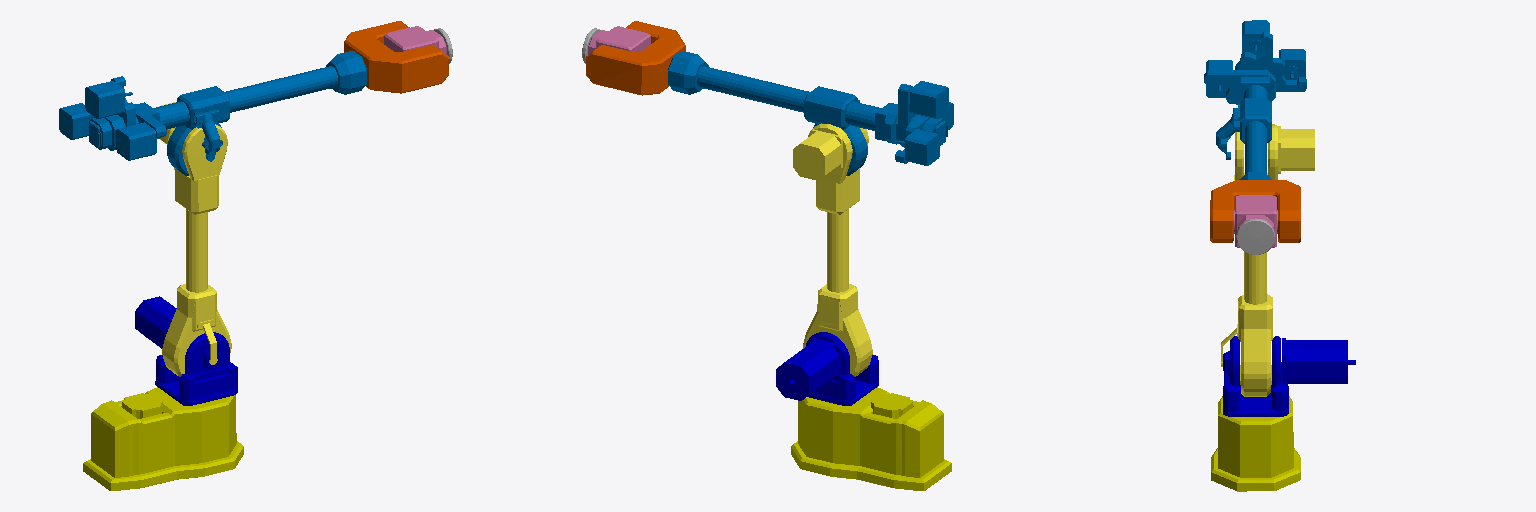
URDF robot description (sixi):
<?xml version="1.0" encoding="UTF-8"?>

<robot name="sixi"
    xmlns:xacro="https://www.ros.org/wiki/xacro">

    <!--
        DESCRIPTION
        // shoulder
        links.get(0).setD(18.8452+0.9);
        links.get(0).setTheta(0);
        links.get(0).setR(0);
        links.get(0).setAlpha(-90);
        links.get(0).setRange(-120,120);
        links.get(0).maxTorque.set(14.0); //Nm

        // bicep
        links.get(1).setD(0);
        links.get(1).setTheta(-90);
        links.get(1).setR(35.796);
        links.get(1).setAlpha(0);
        links.get(1).setRange(-170,0);
        links.get(1).maxTorque.set(40.0); //Nm

        // foreArm
        links.get(2).setD(0);
        links.get(2).setTheta(0);
        links.get(2).setR(6.4259);
        links.get(2).setAlpha(-90);
        links.get(2).setRange(-83.369, 86);
        links.get(2).maxTorque.set(14.0); //Nm

        // utningFork
        links.get(3).setLetter("U");
        links.get(3).setD(29.355+9.35);
        links.get(3).setTheta(0);
        links.get(3).setR(0);
        links.get(3).setAlpha(90);
        links.get(3).setRange(-175, 175);
        links.get(3).maxTorque.set(3.0); //Nm

        // picassoBox
        links.get(4).setLetter("V");
        links.get(4).setD(0);
        links.get(4).setTheta(0);
        links.get(4).setR(0);
        links.get(4).setAlpha(-90);
        links.get(4).setRange(-120, 120);
        links.get(4).maxTorque.set(2.5); //Nm

        // hand
        links.get(5).setLetter("W");
        links.get(5).setTheta(0);
        links.get(5).setD(5.795);
        links.get(5).setR(0);
        links.get(5).setAlpha(0);
        links.get(5).setRange(-170, 170);
        links.get(5).maxTorque.set(2.5); //Nm

    -->

    <!-- Material Tags -->
    <material name="blue">
        <color rgba="0 0 0.8 1"/>
    </material>

    <material name="yellow">
        <color rgba="0.8 0.8 0 1"/>
    </material>


    <!-- Link 1 -->


    <link name="base_link"/>

    <link name="anchor_link">
        <origin xyz="0 0 0" rpy="0 0 0"/>
        <inertial>
            <origin xyz="0.6 0.34 0.30" rpy="0 0 0"/>
            <inertia ixx="0.1602" iyy="0.171041667" izz="0.07083" ixy="0.0" ixz="0.0" iyz="0.0"/>
            <mass value="1.0"/>
        </inertial>
        <visual>
            <geometry>
                <mesh filename="package://sixi_robot/meshes/1_Anchor.obj" scale="0.05 0.05 0.05"/>
            </geometry>
            <material name="yellow" />
        </visual>
        <collision>
            <geometry>
                <mesh filename="package://sixi_robot/meshes/1_Anchor.obj" scale="0.05 0.05 0.05"/>
            </geometry>
        </collision>
    </link>


    <joint name='fixed_joint' type='fixed'>
        <axis xyz="0 0 1"/>
        <origin rpy="0 0 0" xyz="0.0 0.0 0.0"/>
        <parent link="base_link"/>
        <child link="anchor_link"/>
    </joint>

    <!-- Shoulder Link -->
    <link name="shoulder_link">
        <origin xyz="0 0 -0.55" rpy="0 0 0"/>
        <inertial>
            <origin xyz="0.000181 0.187699 0.769055" rpy="0 0 0"/>
            <inertia ixx="0.017621" iyy="0.011409" izz="0.008481" ixy="0.0" ixz="0.0" iyz="0.0"/>
            <mass value="1.0"/>
        </inertial>
        <visual>
            <origin xyz="0 0 -0.55" rpy="0 0 0"/>
            <geometry>
                <mesh filename="package://sixi_robot/meshes/2_Shoulder.obj" scale="0.05 0.05 0.05"/>
            </geometry>
            <material name="blue" />
        </visual>
        <collision>
            <origin xyz="0 0 -0.55" rpy="0 0 0"/>
            <geometry>
                <mesh filename="package://sixi_robot/meshes/2_Shoulder.obj" scale="0.05 0.05 0.05"/>
            </geometry>
        </collision>
    </link>


    <joint name='shoulder_joint' type='revolute'>
        <axis xyz="0 0 1"/>
        <origin xyz="0 0 0.55" rpy="0 0 0"/>
        <parent link="anchor_link"/>
        <child link="shoulder_link"/>
        <limit effort="100" lower="-2.09" upper="2.09" velocity="2.9"/>
    </joint>


    <!-- Bicep Link -->
    <link name="bicep_link">
        <origin xyz="0 0 0" rpy="0 0 0"/>
        <inertial>
            <origin xyz="0.000422 0.039042 2.038135" rpy="0 0 0"/>
            <inertia ixx="0.008392" iyy="0.006938" izz="0.004337" ixy="0.0" ixz="0.0" iyz="0.0"/>
            <mass value="1.0"/>
        </inertial>
        <visual>
            <origin xyz="0 0 -0.925" rpy="0 0 0"/>
            <geometry>
                <mesh filename="package://sixi_robot/meshes/3_Bicep.obj" scale="0.05 0.05 0.05"/>
            </geometry>
        </visual>
        <collision>
            <origin xyz="0 0 -0.925" rpy="0 0 0"/>
            <geometry>
                <mesh filename="package://sixi_robot/meshes/3_Bicep.obj" scale="0.05 0.05 0.05"/>
            </geometry>
        </collision>
    </link>


    <joint name='bicep_joint' type='revolute'>
        <axis xyz="0 1 0"/>
        <origin rpy="0 0 0" xyz="0.0 0.0 0.375"/>
        <parent link="shoulder_link"/>
        <child link="bicep_link"/>
        <limit effort="100" lower="-2.97" upper="0.0" velocity="2.9"/>
    </joint>

    <!-- Forearm Link -->

    <link name="forearm_link">
        <origin xyz="0 0 0" rpy="0 0 0"/>
        <inertial>
            <origin xyz="-0.266003 -0.009119 3.766233" rpy="0 0 0"/>
            <inertia ixx="0.984171" iyy="0.999996" izz="0.066988" ixy="0.0" ixz="0.0" iyz="0.0"/>
            <mass value="1.0"/>
        </inertial>
        <visual>
            <origin xyz="0 0 -2.725" rpy="0 0 0"/>
            <geometry>
                <mesh filename="package://sixi_robot/meshes/4_Forearm.obj" scale="0.05 0.05 0.05"/>
            </geometry>
        </visual>
        <collision>
            <origin xyz="0 0 -2.725" rpy="0 0 0"/>
            <geometry>
                <mesh filename="package://sixi_robot/meshes/4_Forearm.obj" scale="0.05 0.05 0.05"/>
            </geometry>
        </collision>
    </link>


    <joint name='forearm_joint' type='revolute'>
        <axis xyz="0 1 0"/>
        <origin rpy="0 0 0" xyz="0.0 0.0 1.75"/>
        <parent link="bicep_link"/>
        <child link="forearm_link"/>
        <limit effort="100" lower="-1.46" upper="1.5" velocity="2.9"/>
    </joint>

    <!-- TuningFork Link -->

    <link name="tuningfork_link">
        <origin xyz="0 0 0" rpy="0 0 0"/>
        <inertial>
            <origin xyz="1.735532 0.010575 3.053760" rpy="0 0 0"/>
            <inertia ixx="0.004248" iyy="0.002702" izz="0.005991" ixy="0.0" ixz="0.0" iyz="0.0"/>
            <mass value="1.0"/>
        </inertial>
        <visual>

            <origin xyz="-1.45 0 -3.05" rpy="0 0 0"/>
            <geometry>
                <mesh filename="package://sixi_robot/meshes/5_TuningFork.obj" scale="0.05 0.05 0.05"/>
            </geometry>
        </visual>
        <collision>

            <origin xyz="-1.45 0 -3.05" rpy="0 0 0"/>
            <geometry>
                <mesh filename="package://sixi_robot/meshes/5_TuningFork.obj" scale="0.05 0.05 0.05"/>
            </geometry>
        </collision>
    </link>


    <joint name='tuningfork_joint' type='revolute'>
        <axis xyz="1 0 0"/>
        <origin rpy="0 0 0" xyz="1.45 0.0 0.35"/>
        <parent link="forearm_link"/>
        <child link="tuningfork_link"/>
        <limit effort="100" lower="-3.05" upper="3.05" velocity="2.9"/>
    </joint>

    <!-- PicassoBox Link -->
    <link name="picassobox_link">
        <origin xyz="0 0 0" rpy="0 0 0"/>
        <inertial>
            <origin xyz="1.959861 0.000070 3.054593" rpy="0 0 0"/>
            <inertia ixx="0.000624" iyy="0.000714" izz="0.000795" ixy="0.0" ixz="0.0" iyz="0.0"/>
            <mass value="1.0"/>
        </inertial>
        <visual>
            <origin xyz="-1.85 0 -3.05" rpy="0 0 0"/>
            <geometry>
                <mesh filename="package://sixi_robot/meshes/6_PicassoBox.obj" scale="0.05 0.05 0.05"/>
            </geometry>
        </visual>
        <collision>
            <origin xyz="-1.85 0 -3.05" rpy="0 0 0"/>
            <geometry>
                <mesh filename="package://sixi_robot/meshes/6_PicassoBox.obj" scale="0.05 0.05 0.05"/>
            </geometry>
        </collision>
    </link>


    <joint name='picassobox_joint' type='revolute'>
        <axis xyz="0 1 0"/>
        <origin rpy="0 0 0" xyz="0.4 0.0 0.0"/>
        <parent link="tuningfork_link"/>
        <child link="picassobox_link"/>
        <limit effort="100" lower="-2.09" upper="2.09" velocity="2.9"/>
    </joint>

    <!-- Hand Link -->
    <link name="hand_link">
        <origin xyz="0 0 0" rpy="0 0 0"/>
        <inertial>
            <origin xyz="2.207627 0.000116 3.054149" rpy="0 0 0"/>
            <inertia ixx="0.000028" iyy="0.000014" izz="0.000014" ixy="0.0" ixz="0.0" iyz="0.0"/>
            <mass value="1.0"/>
        </inertial>
        <visual>

            <origin xyz="-2.15 0 -3.05" rpy="0 0 0"/>
            <geometry>
                <mesh filename="package://sixi_robot/meshes/7_Hand.obj" scale="0.05 0.05 0.05"/>
            </geometry>
        </visual>
        <collision>

            <origin xyz="-2.15 0 -3.05" rpy="0 0 0"/>
            <geometry>
                <mesh filename="package://sixi_robot/meshes/7_Hand.obj" scale="0.05 0.05 0.05"/>
            </geometry>
        </collision>
    </link>


    <joint name='hand_joint' type='revolute'>
        <axis xyz="1 0 0"/>
        <origin rpy="0 0 0" xyz="0.3 0.0 0.0"/>
        <parent link="picassobox_link"/>
        <child link="hand_link"/>
        <limit effort="100" lower="-2.97" upper="2.97" velocity="2.9"/>
    </joint>

    <!-- Gazebo Transmission Tags-->
    <transmission name="trans_shoulder_joint">
        <type>transmission_interface/SimpleTransmission</type>
        <joint name="shoulder_joint">
            <hardwareInterface>hardware_interface/EffortJointInterface</hardwareInterface>
        </joint>
        <actuator name="shoulder_joint_motor">
            <hardwareInterface>hardware_interface/EffortJointInterface</hardwareInterface>
            <mechanicalReduction>1</mechanicalReduction>
        </actuator>
    </transmission>
    <transmission name="trans_bicep_joint">
        <type>transmission_interface/SimpleTransmission</type>
        <joint name="bicep_joint">
            <hardwareInterface>hardware_interface/EffortJointInterface</hardwareInterface>
        </joint>
        <actuator name="bicep_joint_motor">
            <hardwareInterface>hardware_interface/EffortJointInterface</hardwareInterface>
            <mechanicalReduction>1</mechanicalReduction>
        </actuator>
    </transmission>
    <transmission name="trans_forearm_joint">
        <type>transmission_interface/SimpleTransmission</type>
        <joint name="forearm_joint">
            <hardwareInterface>hardware_interface/EffortJointInterface</hardwareInterface>
        </joint>
        <actuator name="forearm_joint_motor">
            <hardwareInterface>hardware_interface/EffortJointInterface</hardwareInterface>
            <mechanicalReduction>1</mechanicalReduction>
        </actuator>
    </transmission>
    <transmission name="trans_tuningfork_joint">
        <type>transmission_interface/SimpleTransmission</type>
        <joint name="tuningfork_joint">
            <hardwareInterface>hardware_interface/EffortJointInterface</hardwareInterface>
        </joint>
        <actuator name="tuningfork_joint_motor">
            <hardwareInterface>hardware_interface/EffortJointInterface</hardwareInterface>
            <mechanicalReduction>1</mechanicalReduction>
        </actuator>
    </transmission>
    <transmission name="trans_picassobox_joint">
        <type>transmission_interface/SimpleTransmission</type>
        <joint name="picassobox_joint">
            <hardwareInterface>hardware_interface/EffortJointInterface</hardwareInterface>
        </joint>
        <actuator name="picassobox_joint_motor">
            <hardwareInterface>hardware_interface/EffortJointInterface</hardwareInterface>
            <mechanicalReduction>1</mechanicalReduction>
        </actuator>
    </transmission>
    <transmission name="trans_hand_joint">
        <type>transmission_interface/SimpleTransmission</type>
        <joint name="hand_joint">
            <hardwareInterface>hardware_interface/EffortJointInterface</hardwareInterface>
        </joint>
        <actuator name="hand_joint_motor">
            <hardwareInterface>hardware_interface/EffortJointInterface</hardwareInterface>
            <mechanicalReduction>1</mechanicalReduction>
        </actuator>
    </transmission>
    <gazebo>
        <plugin name="gazebo_ros_control" filename="libgazebo_ros_control.so">
            <robotNamespace>/</robotNamespace>
        </plugin>
    </gazebo>

</robot>

--- Render facts (derived) ---
3 views of the same robot in one strip: view 1: azimuth 30°, elevation 25°; view 2: azimuth 150°, elevation 25°; view 3: azimuth 270°, elevation 25° (orthographic).
Robot: sixi — 8 links, 7 joints (6 revolute, 1 fixed); root link base_link; default pose: every joint at zero.
Visible links, largest first — view 1: forearm_link, anchor_link, bicep_link, shoulder_link, tuningfork_link, picassobox_link; view 2: anchor_link, forearm_link, bicep_link, shoulder_link, tuningfork_link, picassobox_link; view 3: forearm_link, bicep_link, anchor_link, shoulder_link, tuningfork_link, picassobox_link, hand_link.
Link boxes in pixels (left/top/right/bottom): forearm_link: left=59, top=51, right=366, bottom=175; anchor_link: left=83, top=387, right=243, bottom=490; bicep_link: left=159, top=102, right=231, bottom=376; shoulder_link: left=135, top=296, right=237, bottom=405; tuningfork_link: left=344, top=21, right=448, bottom=93; picassobox_link: left=384, top=26, right=446, bottom=54; anchor_link: left=791, top=387, right=951, bottom=490; forearm_link: left=668, top=51, right=953, bottom=175; bicep_link: left=793, top=123, right=872, bottom=376; shoulder_link: left=776, top=332, right=878, bottom=405; tuningfork_link: left=586, top=21, right=685, bottom=95; picassobox_link: left=588, top=26, right=650, bottom=54; forearm_link: left=1204, top=20, right=1306, bottom=179; bicep_link: left=1221, top=124, right=1314, bottom=396; anchor_link: left=1211, top=365, right=1300, bottom=491; shoulder_link: left=1223, top=336, right=1355, bottom=416; tuningfork_link: left=1210, top=180, right=1300, bottom=242; picassobox_link: left=1234, top=195, right=1277, bottom=247; hand_link: left=1236, top=218, right=1274, bottom=254.
Size in the robot's own frame: 3.25 by 1.16 by 3.4 metres.
7 mesh visuals loaded from 7 distinct referenced files (7 OBJ).
